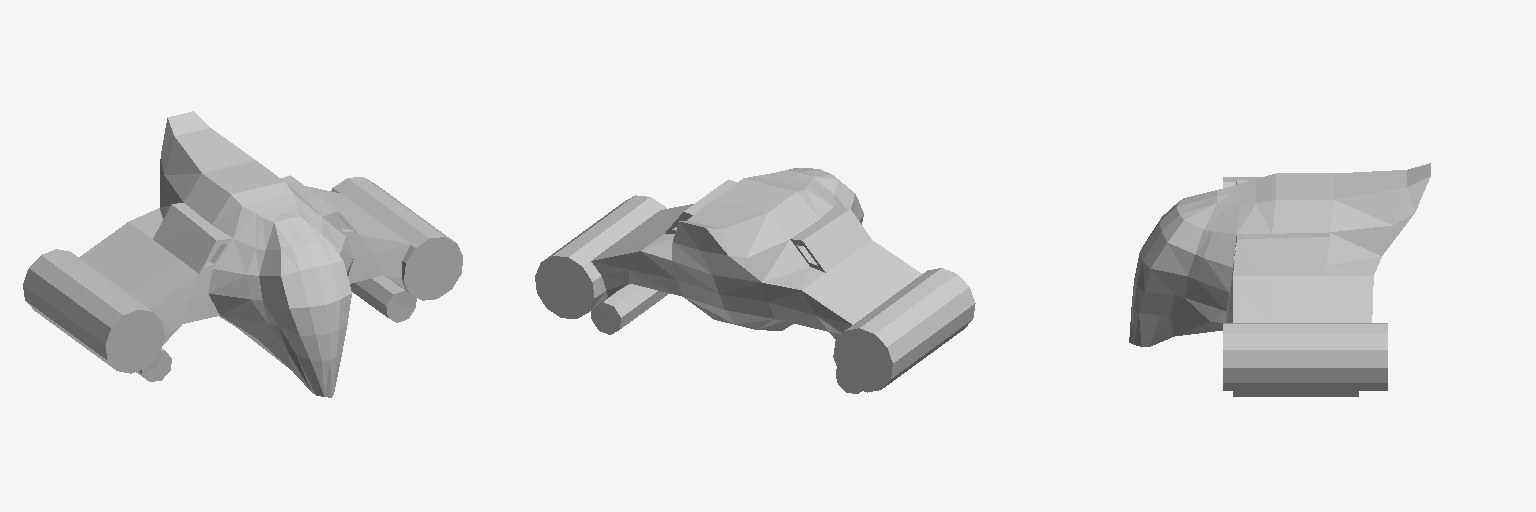
The model's file is Boss_Minigun_5.obj.
3 renders of one model, left to right at view 1: azimuth 30°, elevation 25°; view 2: azimuth 150°, elevation 25°; view 3: azimuth 270°, elevation 25°, orthographic.
Parts seen in each view (by area): view 1: Boss_Minigun_4:pCylinder4; view 2: Boss_Minigun_4:pCylinder4; view 3: Boss_Minigun_4:pCylinder4.
Part boxes in pixels (left/top/right/bottom): Boss_Minigun_4:pCylinder4: left=23, top=111, right=462, bottom=397; Boss_Minigun_4:pCylinder4: left=535, top=168, right=975, bottom=393; Boss_Minigun_4:pCylinder4: left=1129, top=163, right=1430, bottom=396.
Bounding box in the file's own units: 7.14 × 3.29 × 5.21.